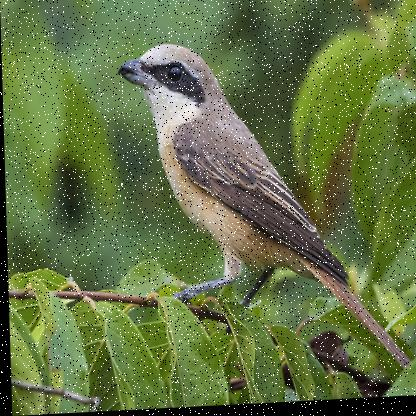Burung: (111, 36, 414, 389)
